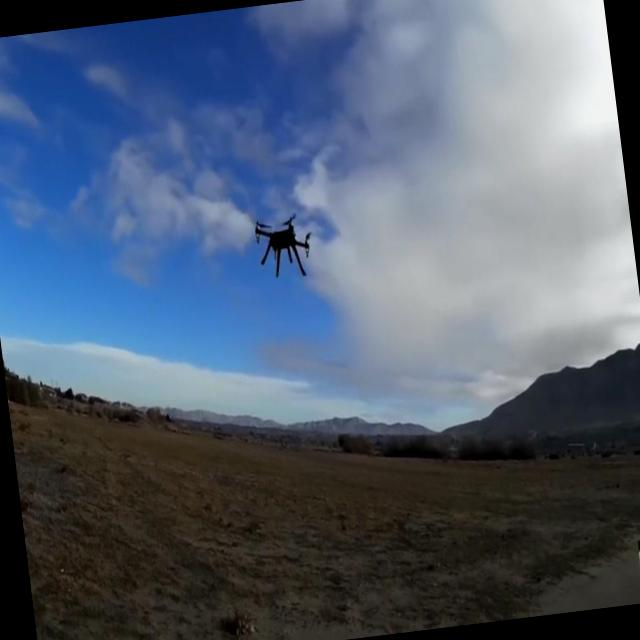drone: (250, 206, 317, 285)
